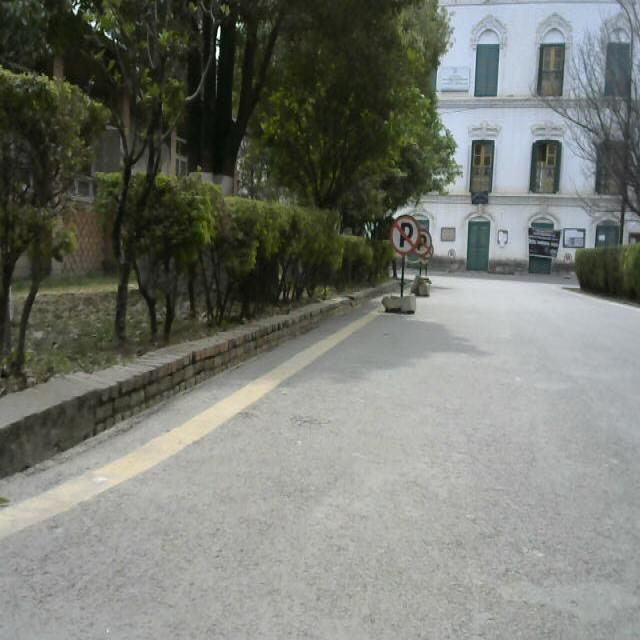Buildings: (444, 4, 640, 290)
NoParking: (379, 210, 440, 325), (561, 250, 579, 290)
Road: (5, 293, 640, 640)
trees: (1, 4, 388, 340), (1, 70, 78, 392)
